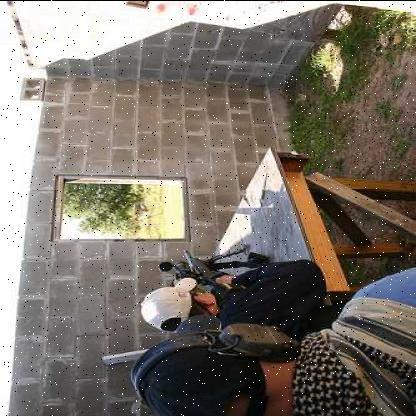rifle: (151, 241, 286, 314)
